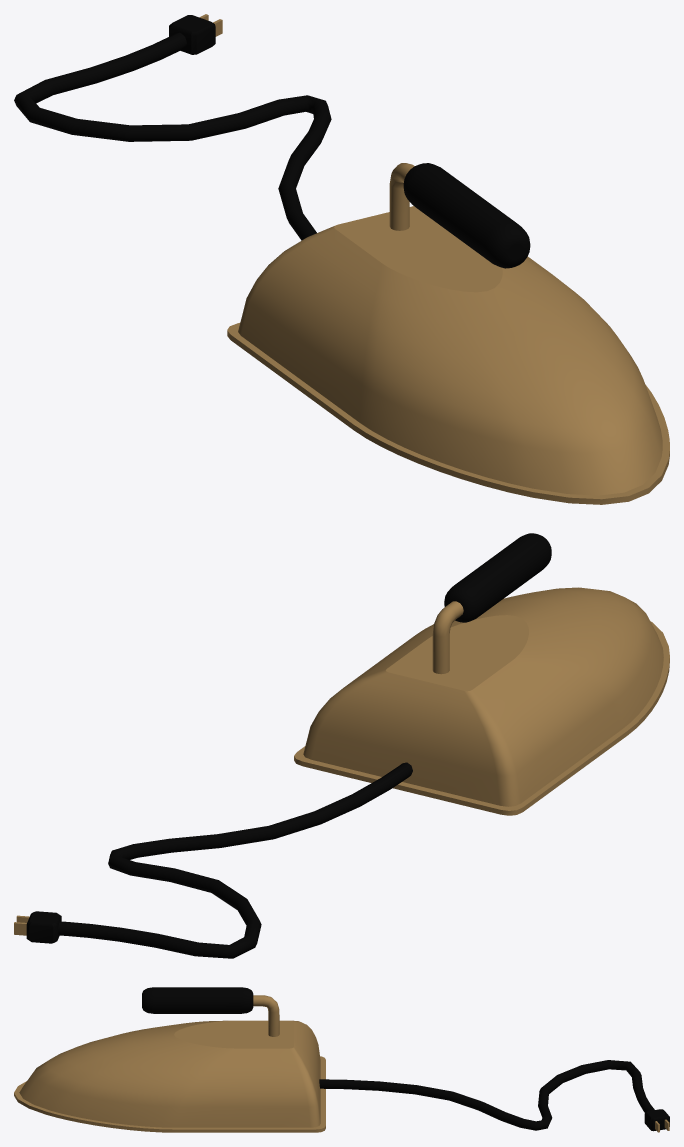
The model's file is cadnav.fbx.
3 renders of one model, top to bottom at view 1: azimuth 30°, elevation 25°; view 2: azimuth 150°, elevation 25°; view 3: azimuth 270°, elevation 25°, orthographic. The views are drawn at different scales.
Visible parts, largest first — view 1: BADY, I, BAI; view 2: BADY, I, BAI; view 3: BADY, I, BAI.
Boxes of the visible parts, left/top/right/bottom form: BADY: left=199, top=14, right=669, bottom=504; I: left=14, top=15, right=331, bottom=240; BAI: left=403, top=163, right=530, bottom=268; BADY: left=14, top=587, right=669, bottom=935; I: left=26, top=762, right=412, bottom=958; BAI: left=444, top=533, right=551, bottom=622; BADY: left=14, top=995, right=669, bottom=1132; I: left=319, top=1060, right=669, bottom=1131; BAI: left=142, top=987, right=253, bottom=1013.
Bounding box in the file's own units: 471 × 290 × 1603.
